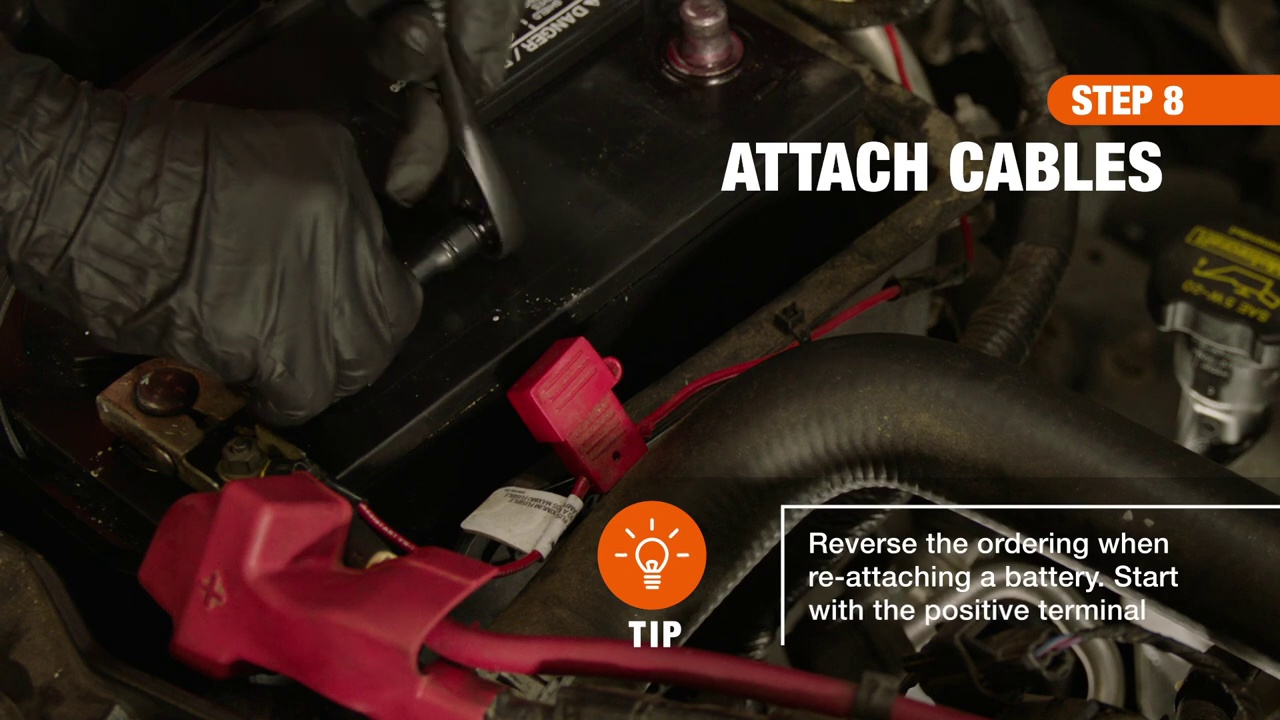battery: (89, 3, 875, 567)
neg_disconnected: (594, 8, 805, 112)
pos_connected: (88, 335, 350, 631)
pos_touched: (40, 169, 376, 652)
